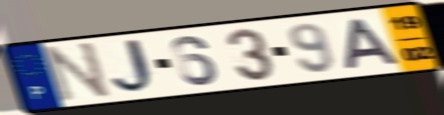3: (225, 27, 276, 82)
6: (171, 34, 220, 87)
9: (286, 22, 336, 75)
A: (344, 16, 403, 71)
J: (110, 36, 163, 97)
N: (44, 40, 114, 104)
